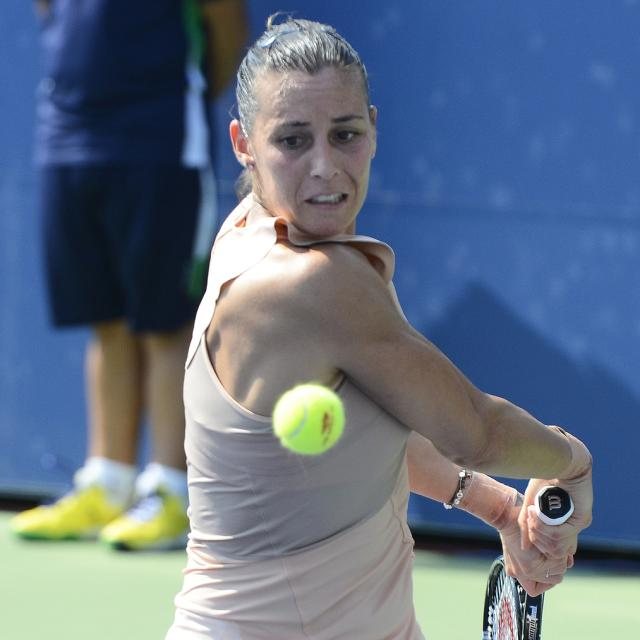Tennis ball: (274, 384, 344, 454)
